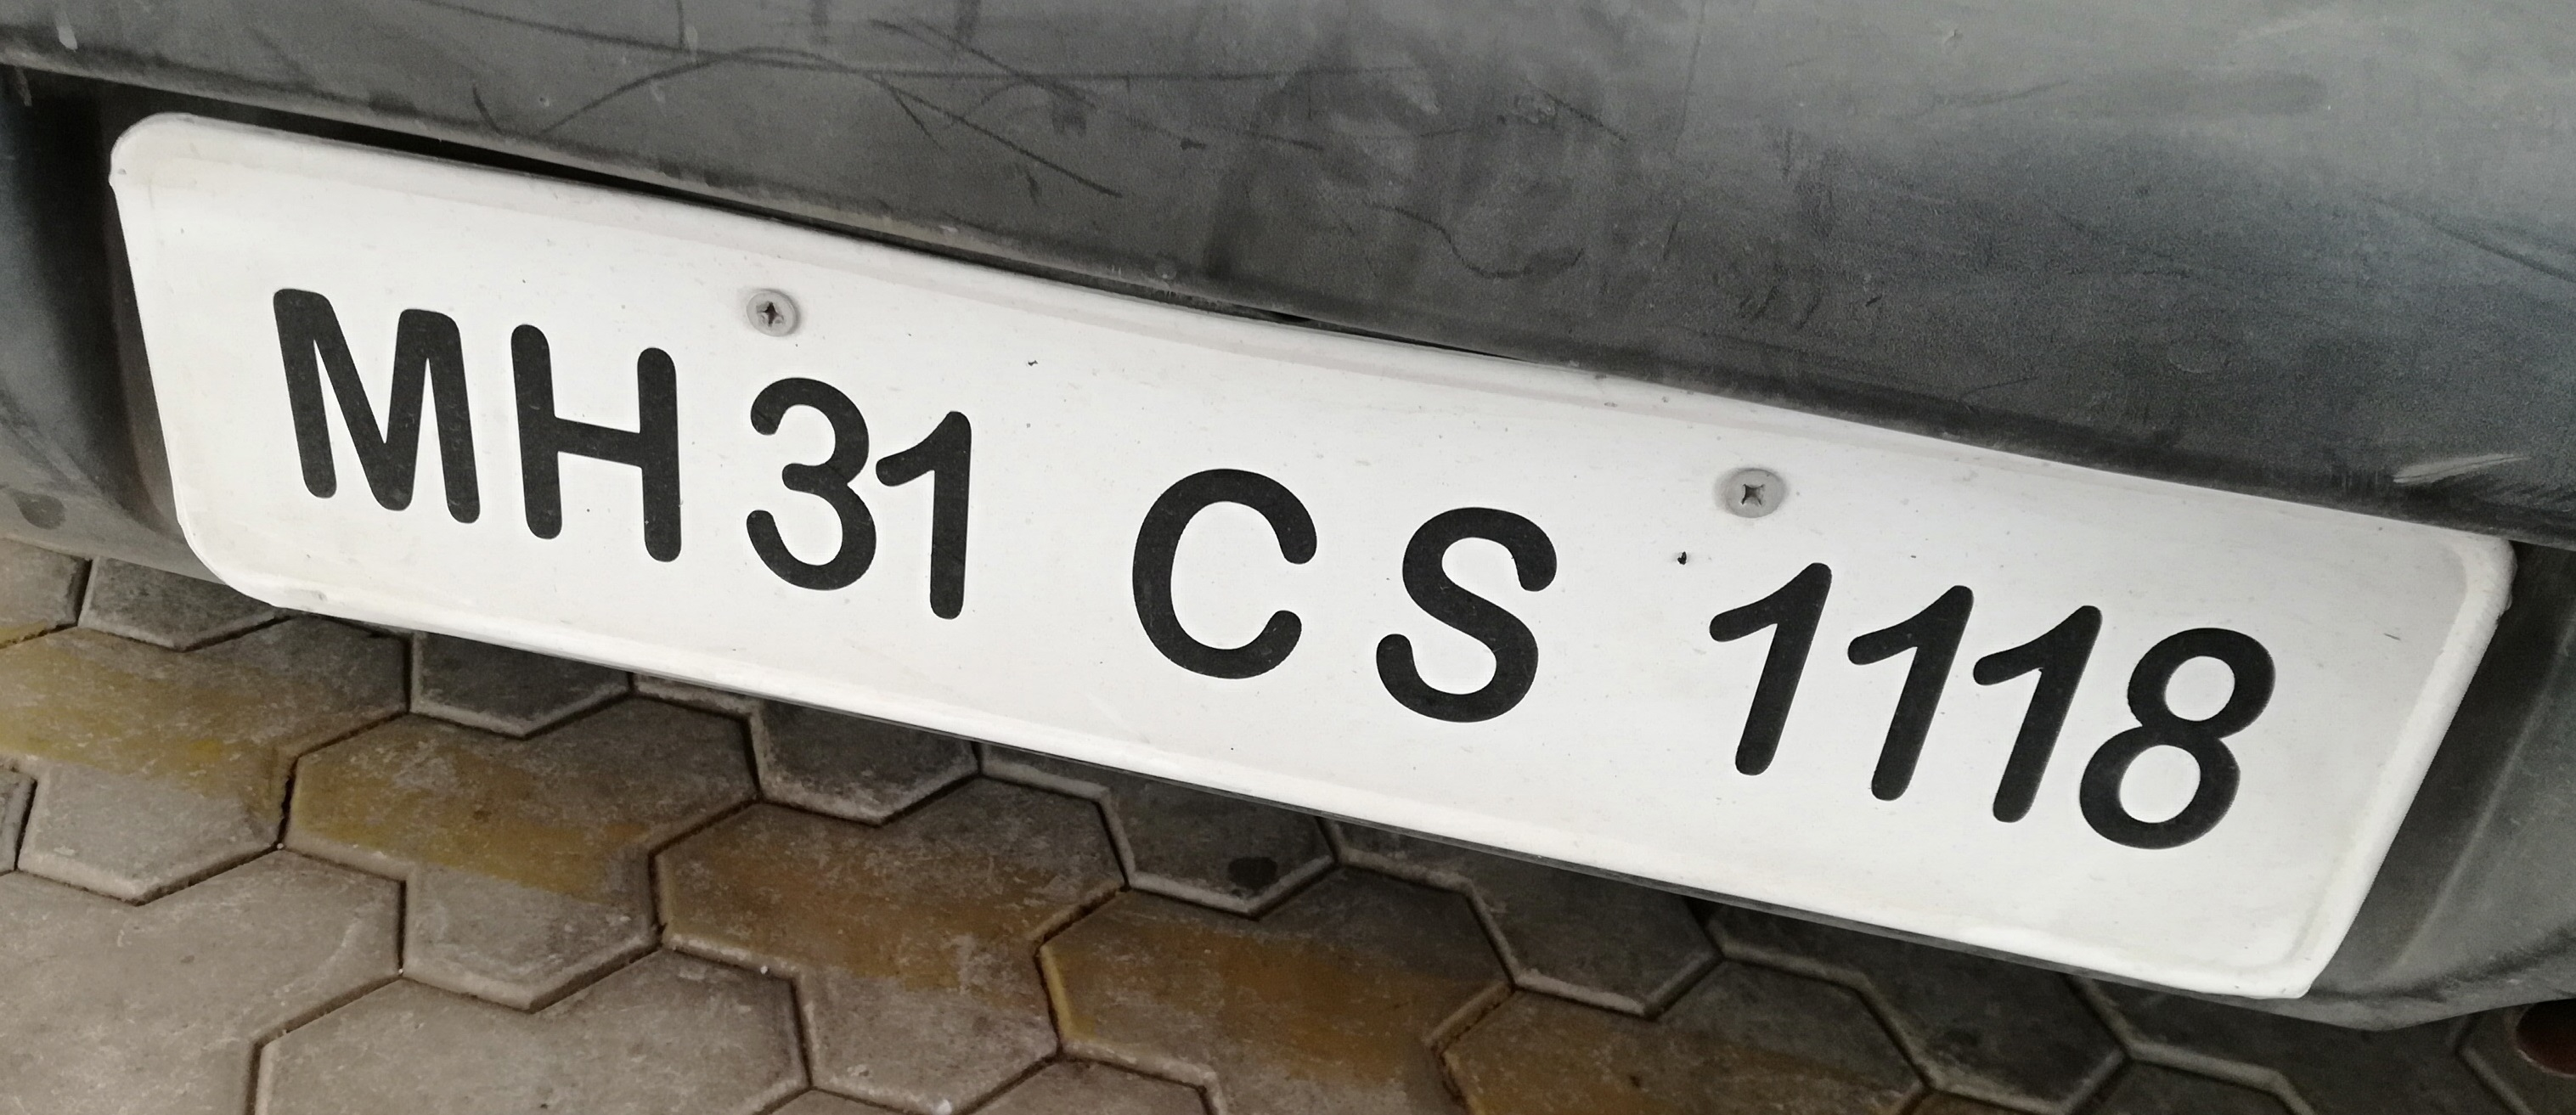numberplate: (99, 107, 2491, 1011)
